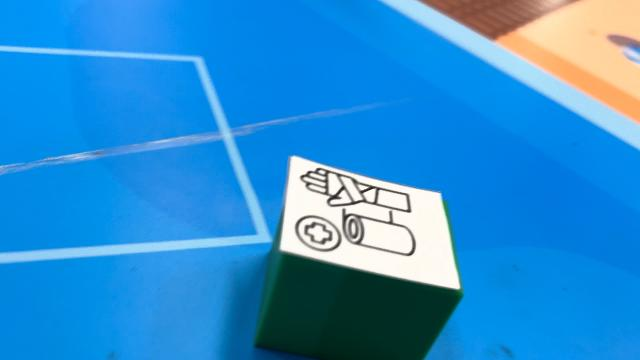bandage: (253, 155, 464, 359)
